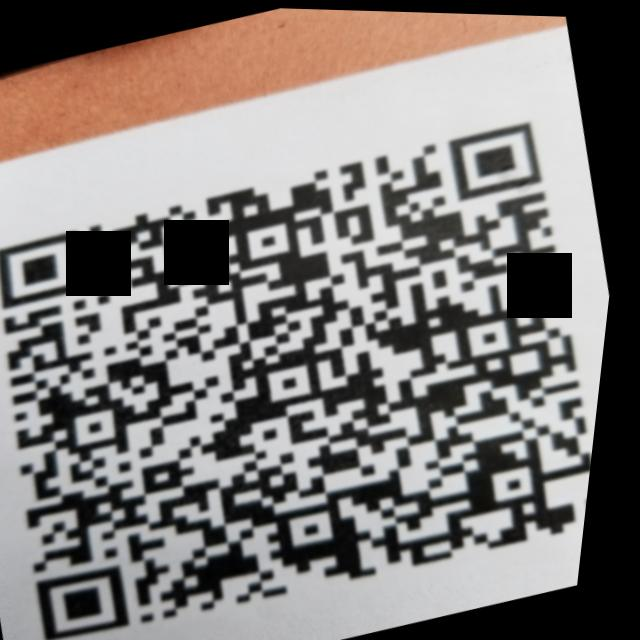QR_CODE: (0, 70, 634, 640)
